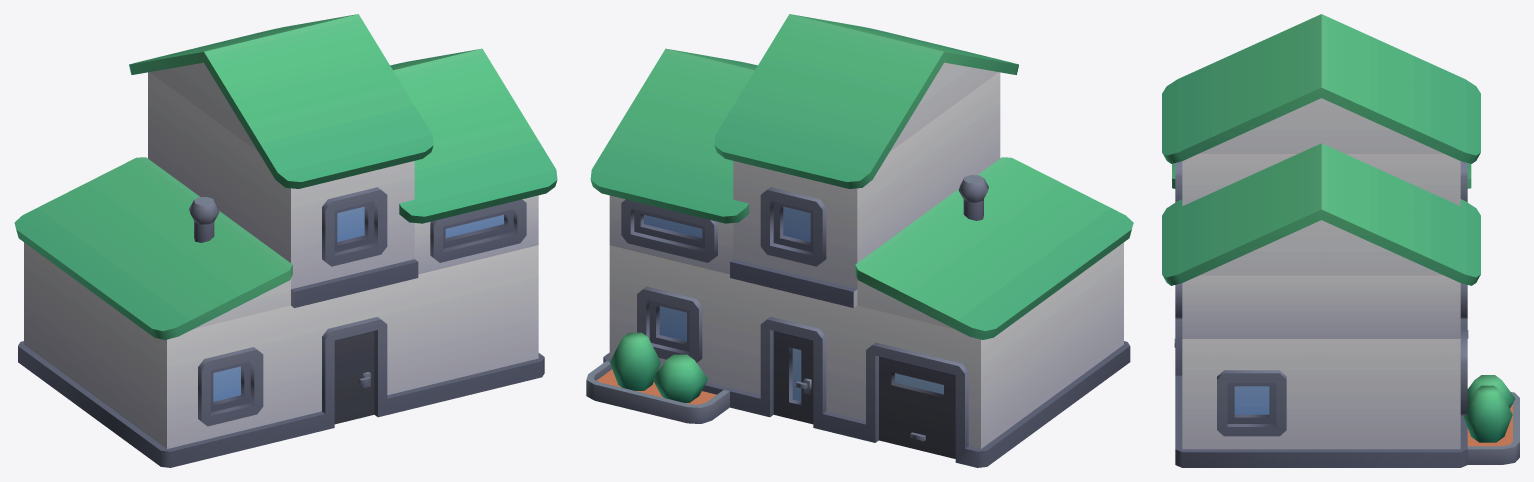
Rendered from k-city-kit-suburban-building-type-c.glb.
3 renders of one model, left to right at view 1: azimuth 30°, elevation 25°; view 2: azimuth 150°, elevation 25°; view 3: azimuth 270°, elevation 25°, orthographic. The views are drawn at different scales.
Visible parts, largest first — view 1: building-type-c; view 2: building-type-c; view 3: building-type-c.
Boxes of the visible parts, x1,y1,x2,y2 form: building-type-c: (14, 14, 557, 467); building-type-c: (586, 14, 1133, 467); building-type-c: (1162, 14, 1519, 467).
Bounding box in the file's own units: 1.29 × 1.03 × 1.03.
Materials: 1 (1 with a texture image).
